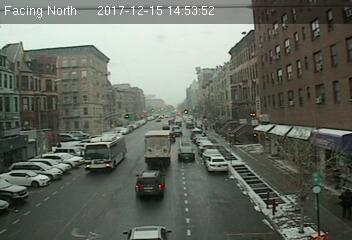bus: (84, 134, 125, 171)
car: (134, 169, 166, 195), (123, 225, 171, 240), (204, 156, 228, 174), (176, 147, 195, 160)
truck: (144, 131, 171, 166)
